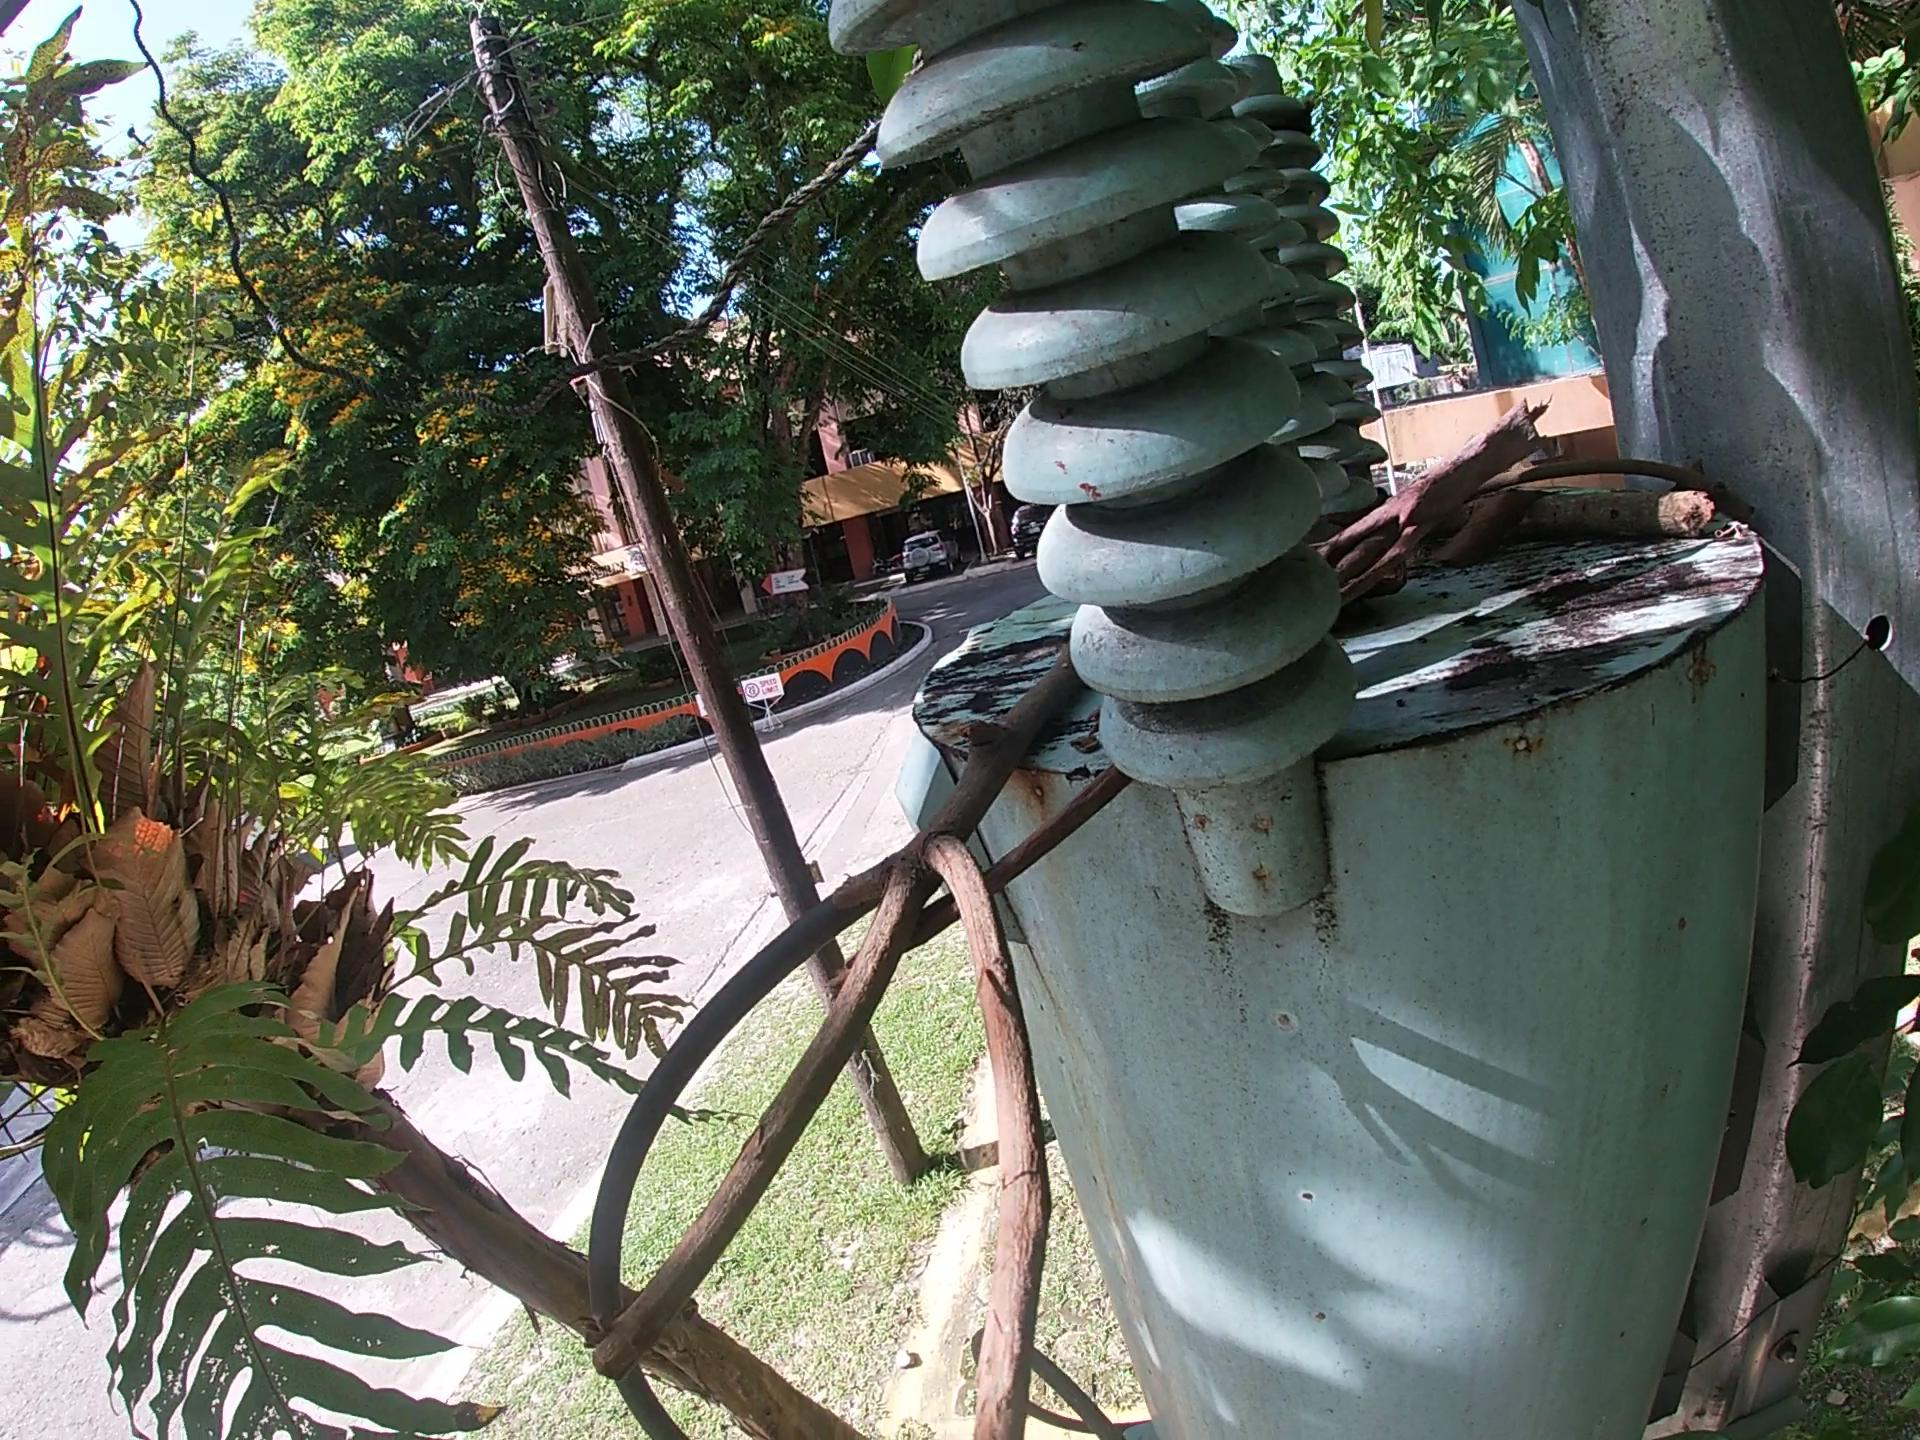leaf: (1429, 481, 1553, 579)
tree branch: (581, 635, 1102, 1440), (877, 759, 1134, 967), (1320, 398, 1551, 613), (1515, 452, 1761, 504), (1515, 479, 1705, 545)
